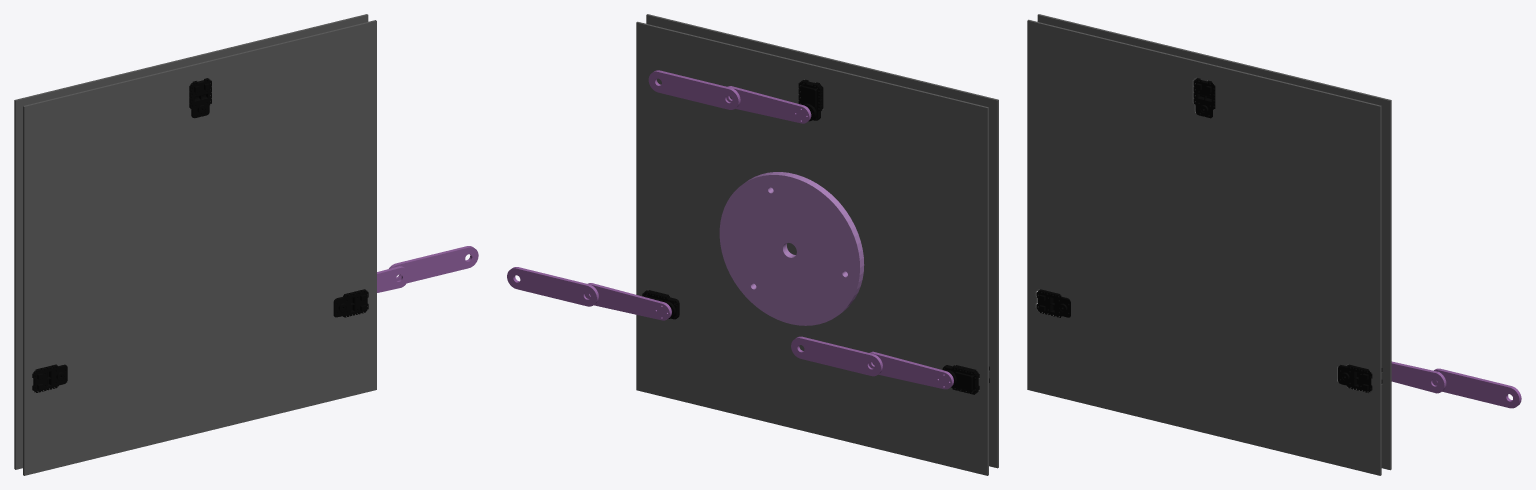
File: Ensamble-rotacion-0blend.fbx
3 renders of one model, left to right at view 1: azimuth 30°, elevation 25°; view 2: azimuth 150°, elevation 25°; view 3: azimuth 330°, elevation 25°, orthographic.
Parts seen in each view (by area): view 1: Ensamble Cero - Base Fija-2, Ensamble Cero - braso2-2, Ensamble Cero - Motor-3 Motor Base-1, Ensamble Cero - Motor-4 Motor Base-1, Ensamble Cero - Motor-1 Motor Base-1, Ensamble Cero - braso1-2; view 2: Ensamble Cero - Base Fija-2, Ensamble Cero - basemovil-1, Ensamble Cero - braso2-1, Ensamble Cero - braso2-3, Ensamble Cero - braso2-2, Ensamble Cero - braso1-2, Ensamble Cero - braso1-3, Ensamble Cero - braso1-1, Ensamble Cero - Motor-3 Motor Base-1, Ensamble Cero - Motor-1 Motor Base-1; view 3: Ensamble Cero - Base Fija-2, Ensamble Cero - braso2-2, Ensamble Cero - braso1-2, Ensamble Cero - Motor-4 Motor Base-1, Ensamble Cero - Motor-1 Motor Base-1, Ensamble Cero - Motor-3 Motor Base-1.
Part boxes in pixels (x1=…): Ensamble Cero - Base Fija-2: x1=14, y1=14, x2=376, y2=475; Ensamble Cero - braso2-2: x1=389, y1=246, x2=478, y2=283; Ensamble Cero - Motor-3 Motor Base-1: x1=32, y1=364, x2=67, y2=392; Ensamble Cero - Motor-4 Motor Base-1: x1=333, y1=289, x2=368, y2=317; Ensamble Cero - Motor-1 Motor Base-1: x1=189, y1=78, x2=211, y2=118; Ensamble Cero - braso1-2: x1=377, y1=266, x2=409, y2=292; Ensamble Cero - Base Fija-2: x1=636, y1=14, x2=998, y2=475; Ensamble Cero - basemovil-1: x1=719, y1=172, x2=864, y2=325; Ensamble Cero - braso2-1: x1=648, y1=70, x2=740, y2=109; Ensamble Cero - braso2-3: x1=791, y1=336, x2=882, y2=376; Ensamble Cero - braso2-2: x1=507, y1=267, x2=598, y2=306; Ensamble Cero - braso1-2: x1=584, y1=283, x2=671, y2=320; Ensamble Cero - braso1-3: x1=869, y1=351, x2=953, y2=389; Ensamble Cero - braso1-1: x1=726, y1=86, x2=811, y2=123; Ensamble Cero - Motor-3 Motor Base-1: x1=942, y1=365, x2=989, y2=394; Ensamble Cero - Motor-1 Motor Base-1: x1=798, y1=79, x2=823, y2=120; Ensamble Cero - Base Fija-2: x1=1027, y1=14, x2=1391, y2=475; Ensamble Cero - braso2-2: x1=1432, y1=368, x2=1521, y2=408; Ensamble Cero - braso1-2: x1=1391, y1=361, x2=1446, y2=393; Ensamble Cero - Motor-4 Motor Base-1: x1=1338, y1=364, x2=1382, y2=392; Ensamble Cero - Motor-1 Motor Base-1: x1=1193, y1=78, x2=1215, y2=118; Ensamble Cero - Motor-3 Motor Base-1: x1=1036, y1=289, x2=1070, y2=317.
Size of the model in its own units: 671 by 501 by 55.37.
